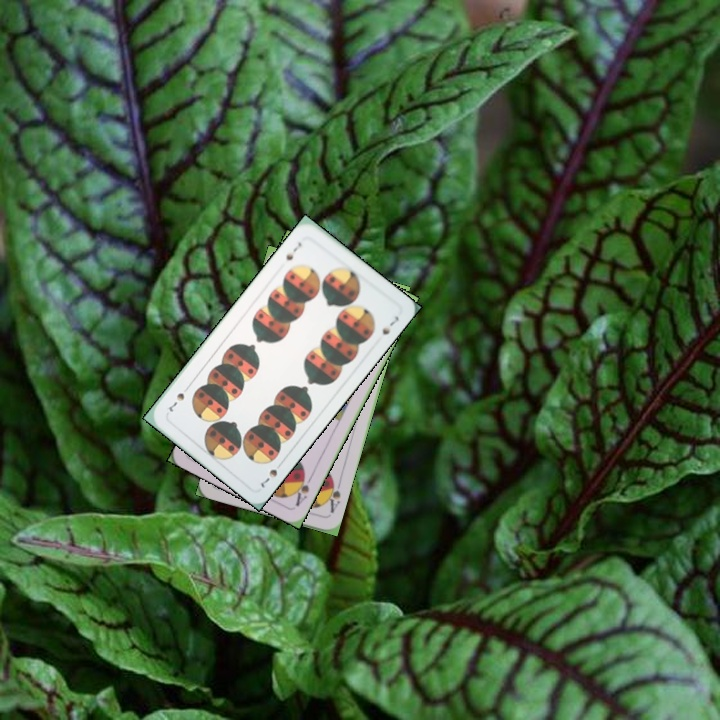S7: (256, 457, 286, 490), (282, 238, 304, 263)
SA: (290, 468, 315, 509), (321, 476, 343, 516)
